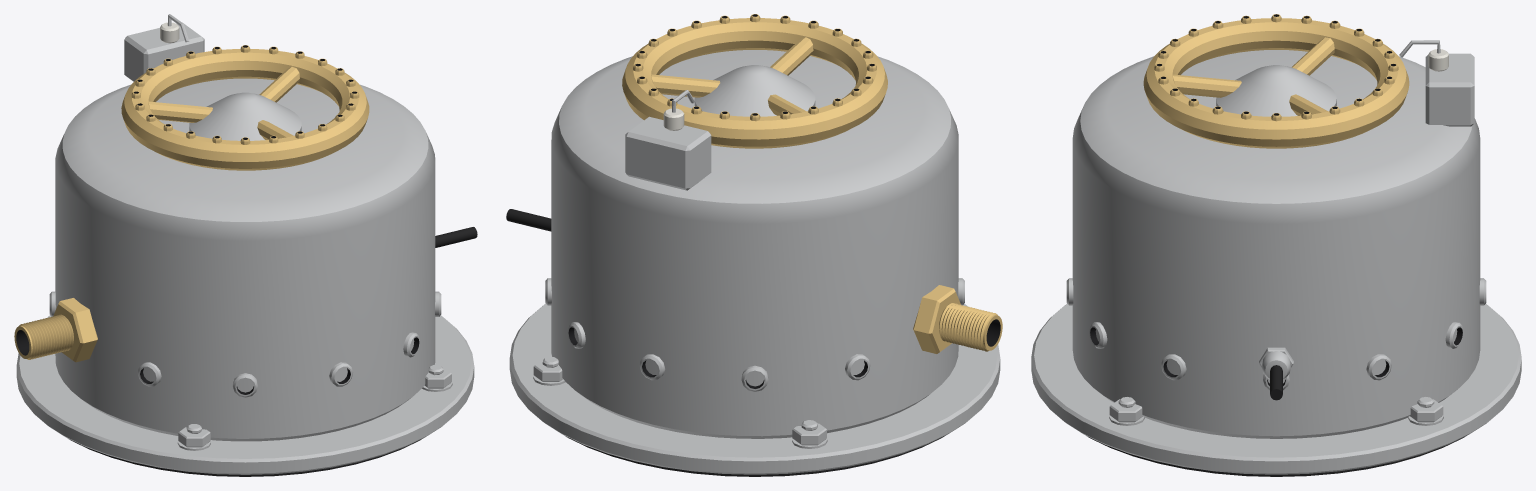
File: flame_burner.glb
The picture shows the model from 3 angles, left to right: view 1: azimuth 30°, elevation 25°; view 2: azimuth 150°, elevation 25°; view 3: azimuth 270°, elevation 25°; orthographic projection. The views are drawn at different scales.
Visible parts, largest first — view 1: Burner_Body; view 2: Burner_Body; view 3: Burner_Body.
Part boxes in pixels (x1,y1,x2,y2): Burner_Body: (14, 14, 477, 476); Burner_Body: (506, 14, 1002, 476); Burner_Body: (1031, 14, 1521, 476).
Size of the model in its own units: 0.2963 by 0.1971 by 0.26.
